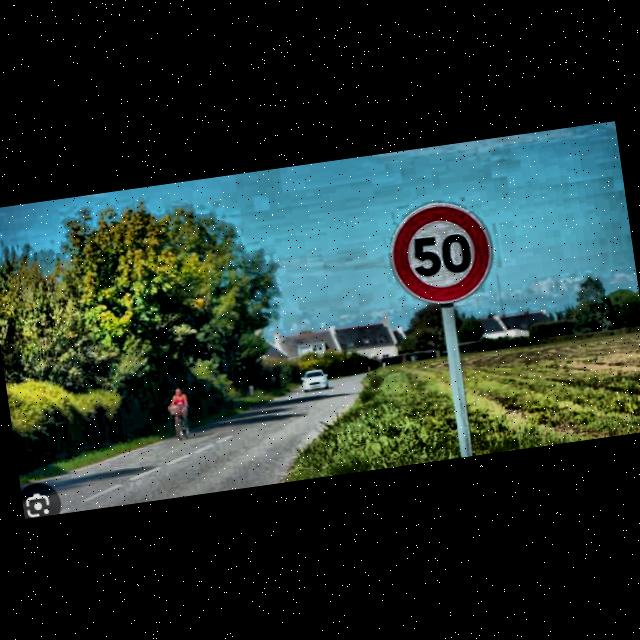speed_50: (386, 196, 498, 310)
